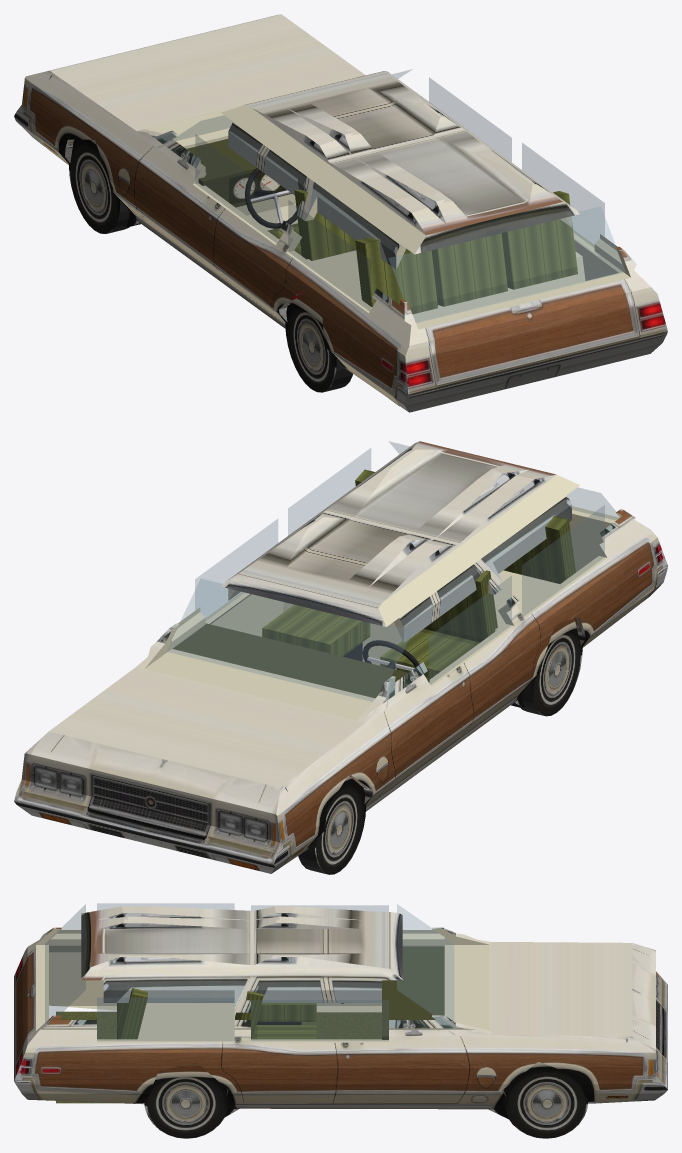
The model's file is station_wagon.glb.
3 renders of one model, top to bottom at view 1: azimuth 30°, elevation 25°; view 2: azimuth 150°, elevation 25°; view 3: azimuth 270°, elevation 25°, orthographic. The views are drawn at different scales.
Parts seen in each view (by area): view 1: station_wagon, station_wagon_cabin, wheel_BL, wheel_FL; view 2: station_wagon, station_wagon_cabin, wheel_FL, wheel_BL; view 3: station_wagon, station_wagon_cabin, wheel_BR, wheel_FR.
Boxes of the visible parts, bbox=[...] form: station_wagon: bbox=[14, 14, 667, 412]; station_wagon_cabin: bbox=[174, 69, 624, 406]; wheel_BL: bbox=[285, 293, 352, 392]; wheel_FL: bbox=[69, 139, 129, 233]; station_wagon: bbox=[14, 441, 667, 873]; station_wagon_cabin: bbox=[166, 441, 619, 701]; wheel_FL: bbox=[298, 775, 366, 874]; wheel_BL: bbox=[521, 618, 582, 716]; station_wagon: bbox=[14, 906, 667, 1119]; station_wagon_cabin: bbox=[45, 903, 453, 1103]; wheel_BR: bbox=[144, 1062, 229, 1138]; wheel_FR: bbox=[503, 1061, 588, 1138].
Bounding box in the file's own units: 1.83 × 1.29 × 4.8.
Materials: 11 (4 with a texture image).
